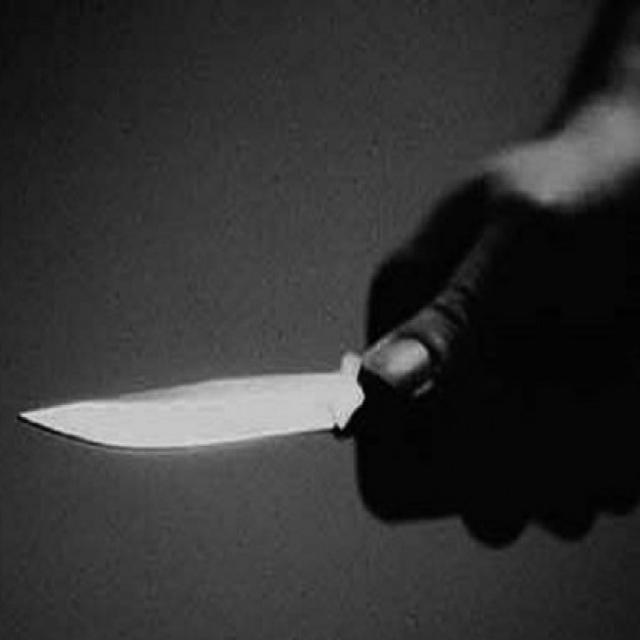knife: (10, 355, 366, 485)
